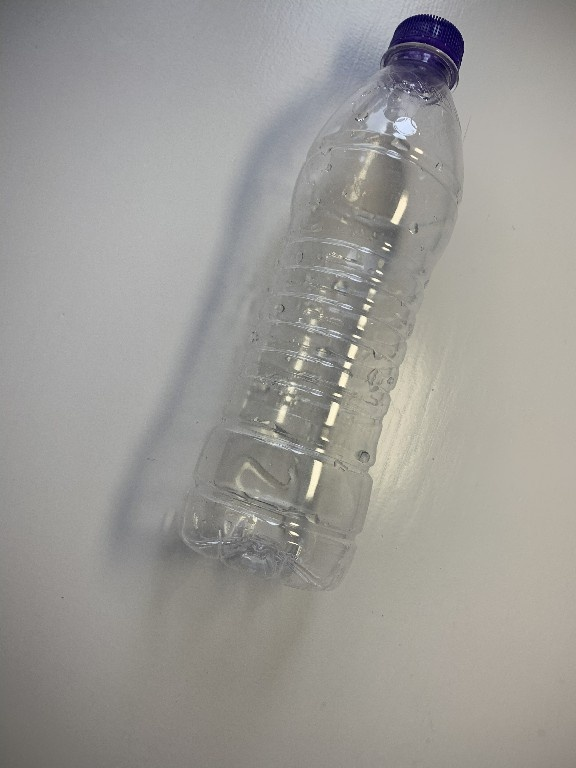bottle: (172, 12, 472, 600)
